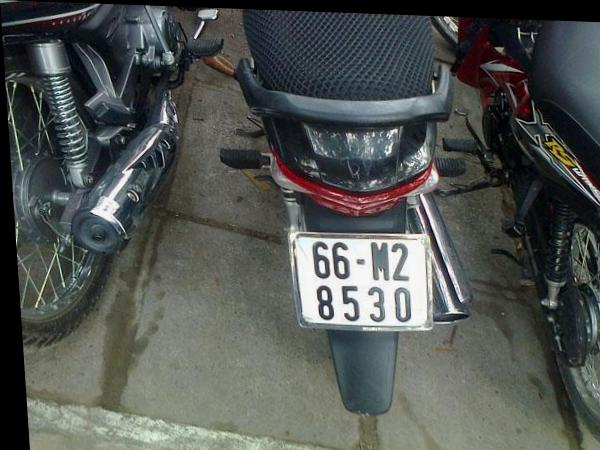License_Plate: (294, 233, 432, 334)
